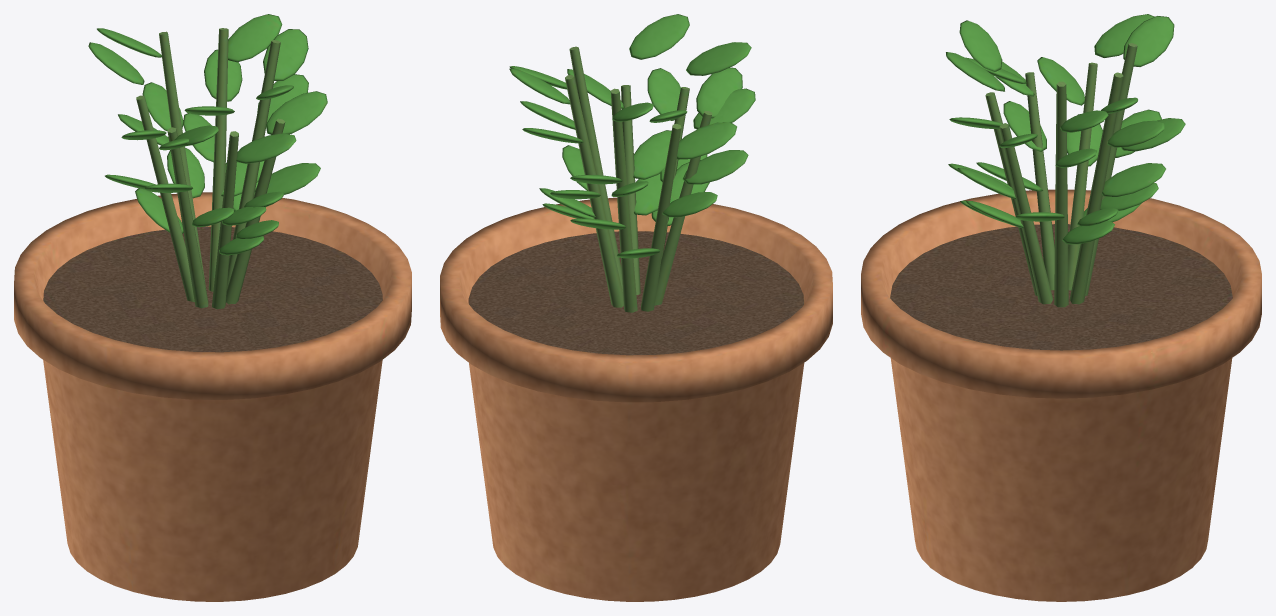
File: pot_basil.glb
3 renders of one model, left to right at view 1: azimuth 30°, elevation 25°; view 2: azimuth 150°, elevation 25°; view 3: azimuth 270°, elevation 25°, orthographic.
Visible parts, largest first — view 1: pot_basil; view 2: pot_basil; view 3: pot_basil.
Boxes of the visible parts, <box> form: pot_basil: <box>14,14,411,601</box>; pot_basil: <box>440,14,832,601</box>; pot_basil: <box>861,14,1261,601</box>.
Bounding box in the file's own units: 8.2 × 11.12 × 8.2.
Materials: 1 (1 with a texture image).
